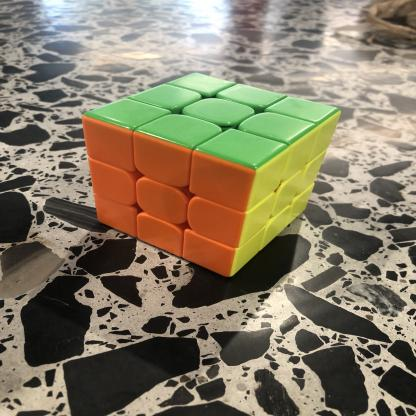SolvedCube: (73, 57, 346, 286)
